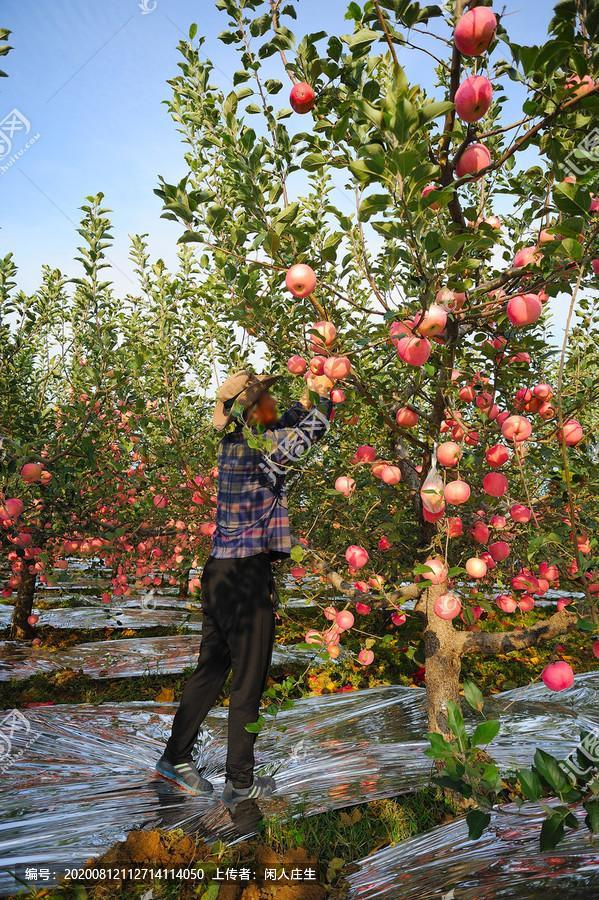apple: (452, 8, 497, 59), (452, 78, 493, 124), (452, 142, 491, 181)
